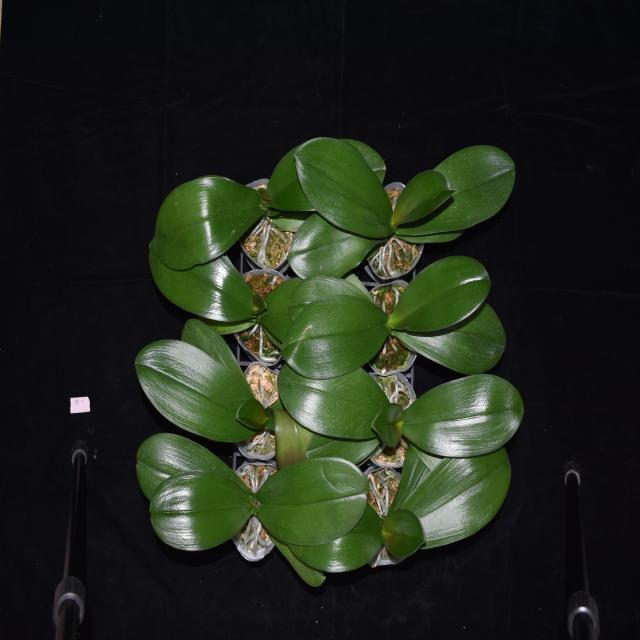leaf: (132, 332, 264, 446), (393, 259, 513, 368), (394, 146, 517, 244), (398, 371, 528, 457), (274, 281, 388, 376), (406, 446, 512, 548), (289, 133, 393, 234), (273, 362, 403, 440), (150, 176, 266, 261), (257, 460, 369, 544), (142, 240, 256, 322), (133, 434, 254, 505), (148, 477, 253, 550), (379, 508, 423, 558)
